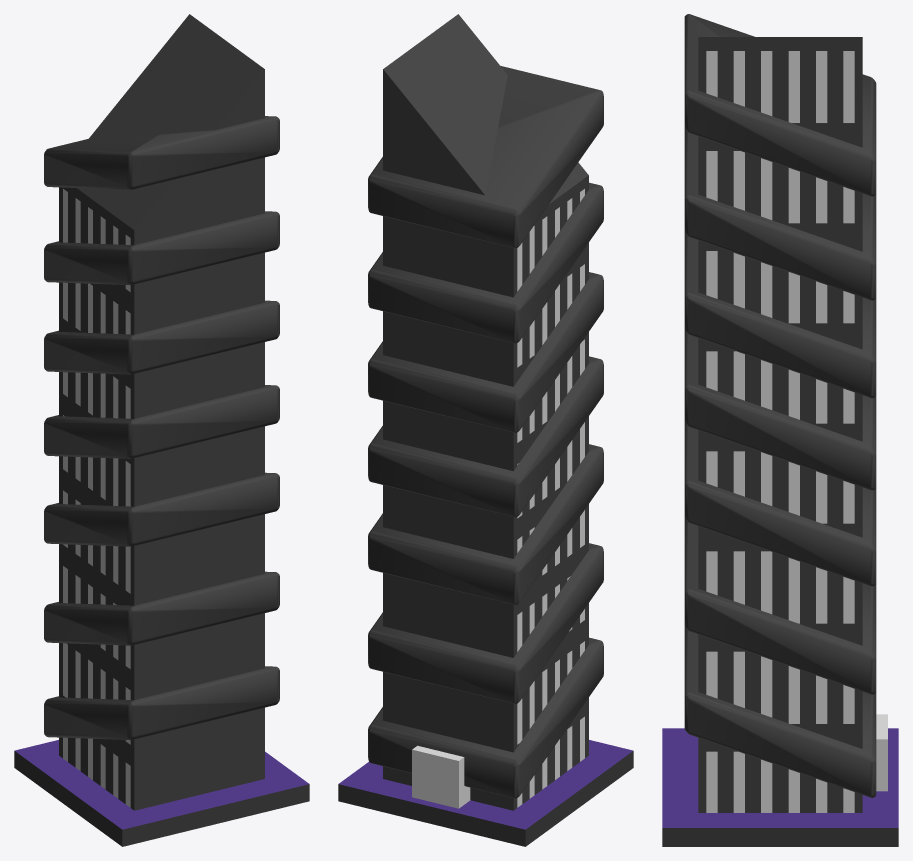
Rendered from building_4.fbx.
3 views of the same model, side by side, from view 1: azimuth 30°, elevation 25°; view 2: azimuth 150°, elevation 25°; view 3: azimuth 270°, elevation 25° (orthographic). The views are drawn at different scales.
Visible parts, largest first — view 1: Cube.095, Cube.097, Base.005, Cube.093; view 2: Cube.097, Cube.095, Base.005, Cube.093, Cube.092; view 3: Cube.097, Cube.095, Cube.094, Base.005, Cube.092.
Boxes of the visible parts, x1,y1,x2,y2 form: Cube.095: [59, 14, 264, 810]; Cube.097: [44, 116, 279, 739]; Base.005: [14, 740, 309, 846]; Cube.093: [63, 189, 130, 807]; Cube.097: [368, 66, 603, 798]; Cube.095: [383, 14, 588, 810]; Base.005: [338, 740, 633, 846]; Cube.093: [517, 189, 584, 807]; Cube.092: [412, 745, 470, 808]; Cube.097: [684, 14, 876, 797]; Cube.095: [698, 37, 862, 812]; Cube.094: [706, 51, 854, 812]; Base.005: [662, 728, 898, 846]; Cube.092: [876, 714, 887, 791].
Bounding box in the file's own units: 800 × 2992 × 800.
